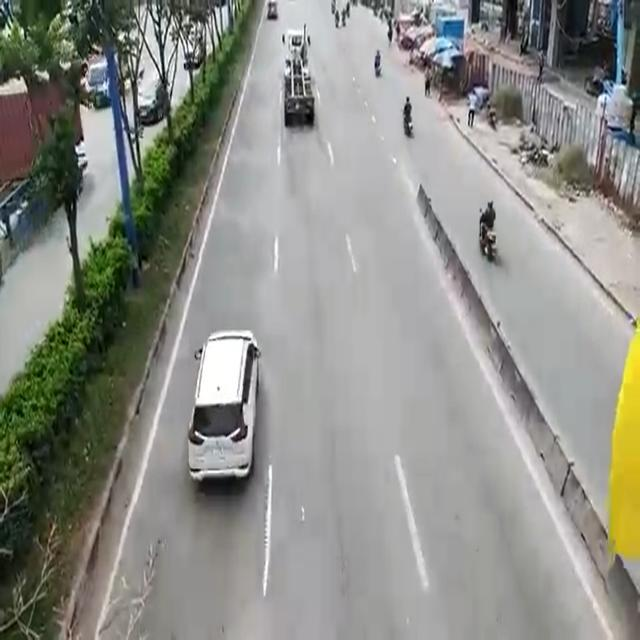car: (191, 334, 258, 490)
truck: (282, 24, 312, 124)
